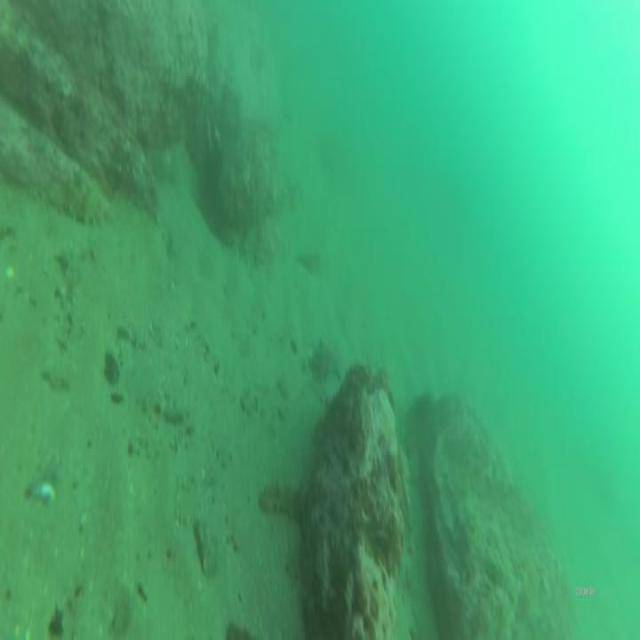holothurian: (61, 172, 112, 229), (258, 474, 312, 526)
starfish: (312, 333, 341, 381)
